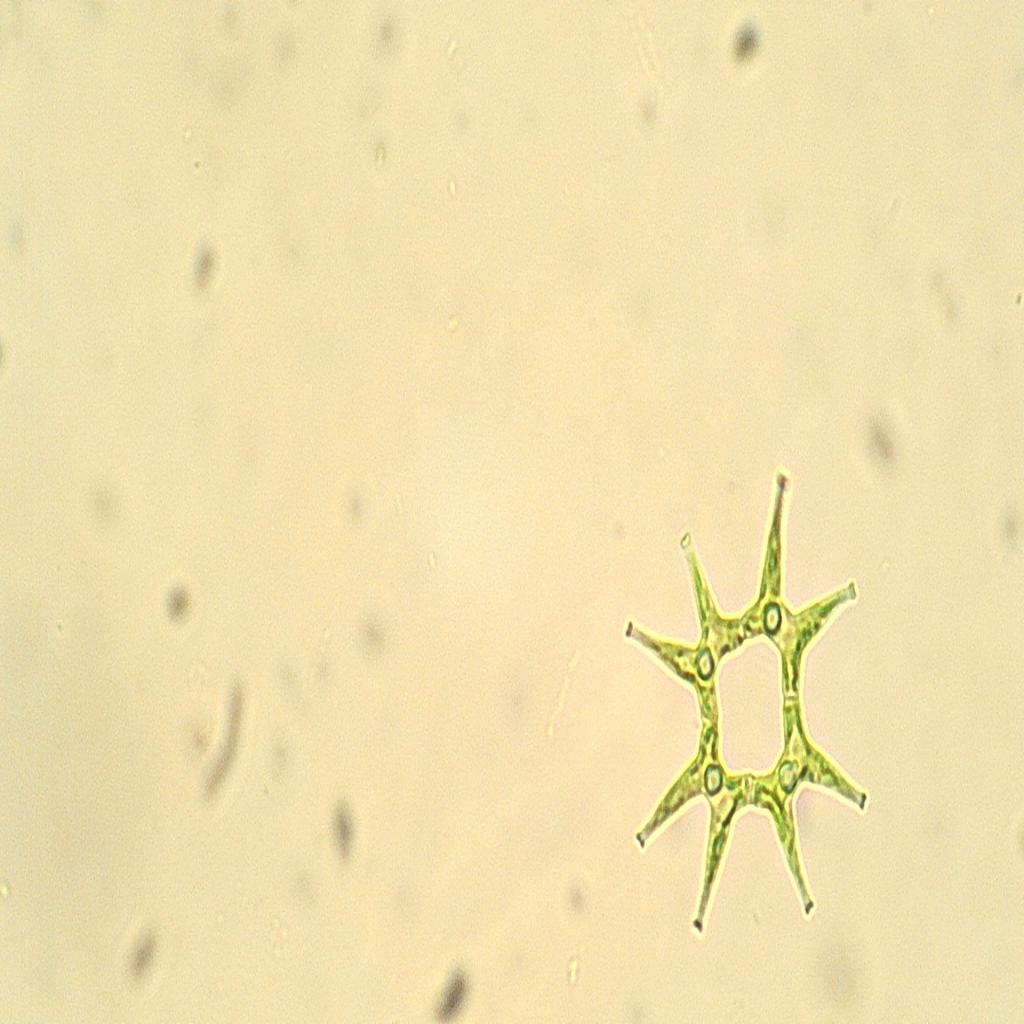Pediastrum_CO: (619, 462, 870, 948)
